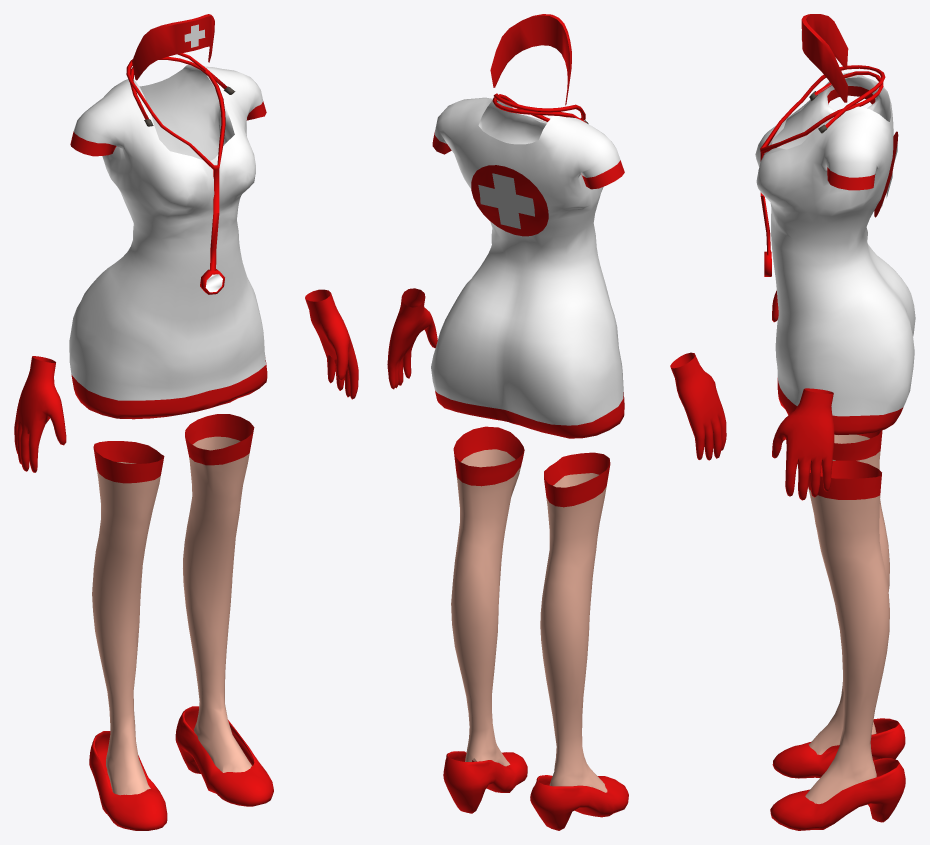
File: weigher_skin_9.fbx
3 renders of one model, left to right at view 1: azimuth 30°, elevation 25°; view 2: azimuth 150°, elevation 25°; view 3: azimuth 270°, elevation 25°, orthographic.
Parts seen in each view (by area): view 1: dress_9, dress_9_stockings, shoes_9, dress_9__gloves, dress_9_hat; view 2: dress_9, dress_9_stockings, shoes_9, dress_9__gloves, dress_9_hat; view 3: dress_9, dress_9_stockings, shoes_9, dress_9__gloves, dress_9_hat.
Boxes of the visible parts, x1,y1,x2,y2 form: dress_9: (69, 53, 267, 419); dress_9_stockings: (92, 414, 254, 795); shoes_9: (89, 706, 273, 830); dress_9__gloves: (14, 289, 358, 472); dress_9_hat: (132, 14, 214, 80); dress_9: (431, 93, 624, 438); dress_9_stockings: (451, 426, 610, 792); shoes_9: (443, 751, 628, 830); dress_9__gloves: (387, 288, 726, 460); dress_9_hat: (490, 14, 571, 105); dress_9: (755, 65, 915, 434); dress_9_stockings: (805, 430, 889, 803); shoes_9: (770, 718, 905, 830); dress_9__gloves: (772, 290, 834, 500); dress_9_hat: (801, 14, 848, 102).
Bounding box in the file's own units: 0.7926 × 1.81 × 0.3374.
